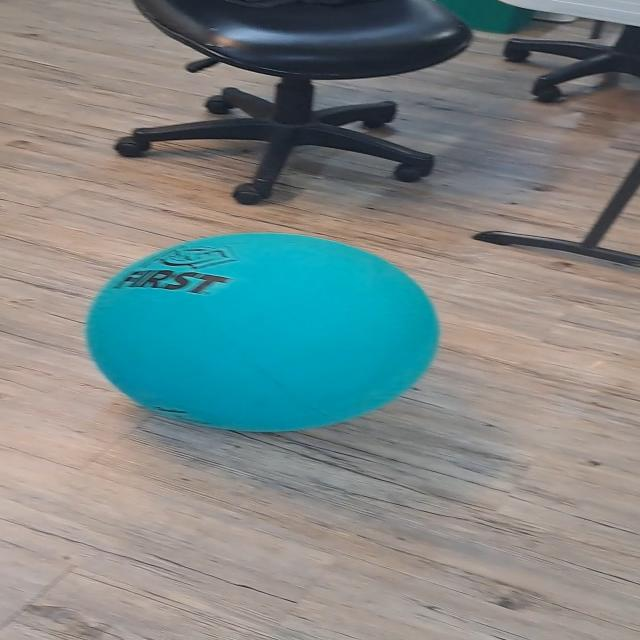ALGAE: (82, 230, 442, 434)
